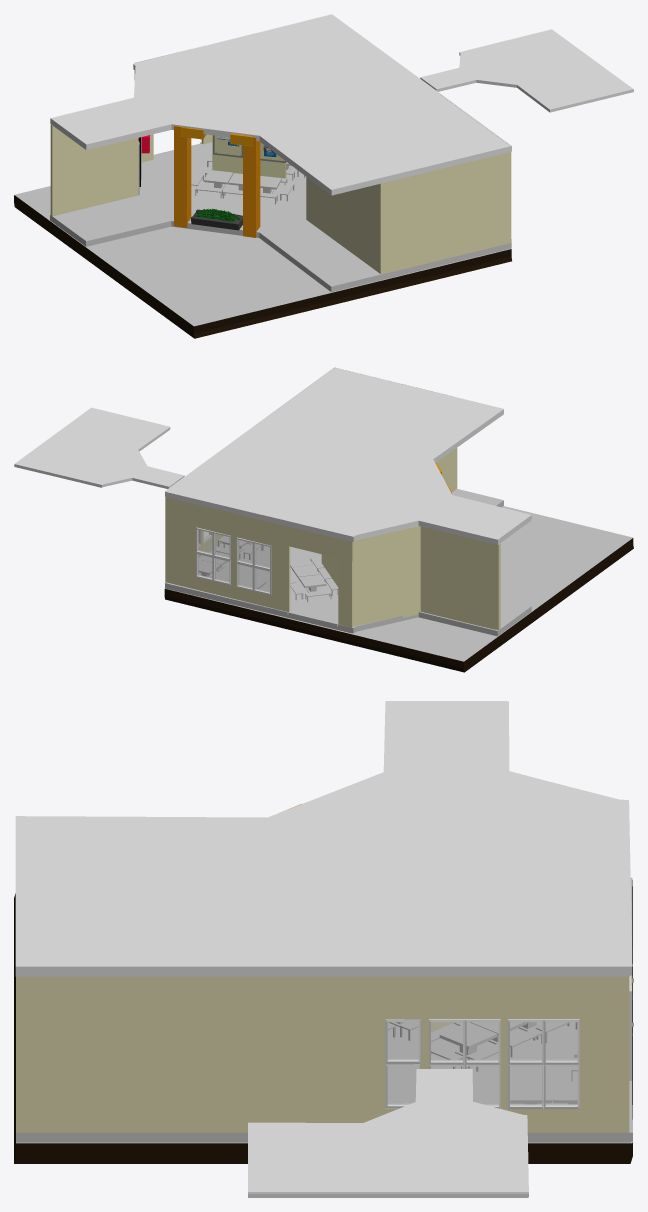
3 renders of one model, top to bottom at view 1: azimuth 30°, elevation 25°; view 2: azimuth 150°, elevation 25°; view 3: azimuth 270°, elevation 25°, orthographic. The views are drawn at different scales.
Visible parts, largest first — view 1: Floor.002, Plane.001, Floor.001, Cube.001, roof, Cube.013, Cube.011, Cube.016, Cube.025, tembok pembatas, Cube.024; view 2: Floor.002, Plane.001, Cube.011, roof, Cube.013, Floor.001, Cube.014, Cube.020, Cube.019, Cube.012; view 3: Floor.002, Cube.001, Cube.011, roof, Floor.001, Plane.001, Cube.017, Cube.018, windows.005, Table.001, Table.004.
Boxes of the visible parts, x1,y1,x2,y2 form: Floor.002: (50, 14, 511, 195); Plane.001: (14, 186, 511, 338); Floor.001: (50, 142, 511, 292); Cube.001: (383, 152, 511, 273); roof: (420, 29, 633, 112); Cube.013: (50, 124, 138, 216); Cube.011: (134, 71, 380, 273); Cube.016: (174, 125, 191, 227); Cube.025: (243, 137, 260, 237); tembok pembatas: (212, 135, 286, 182); Cube.024: (191, 209, 242, 230); Floor.002: (165, 367, 531, 544); Plane.001: (164, 506, 633, 672); Cube.011: (165, 448, 457, 614); roof: (14, 407, 184, 488); Cube.013: (420, 526, 500, 630); Floor.001: (164, 489, 531, 636); Cube.014: (353, 526, 420, 626); Cube.020: (236, 537, 271, 595); Cube.019: (196, 527, 230, 585); Cube.012: (337, 558, 353, 627); Floor.002: (15, 701, 632, 976); Cube.001: (16, 976, 265, 1132); Cube.011: (265, 976, 633, 1132); roof: (248, 1069, 528, 1197); Floor.001: (16, 1022, 632, 1142); Plane.001: (14, 877, 632, 1163); Cube.017: (508, 1019, 579, 1109); Cube.018: (429, 1019, 500, 1108); windows.005: (385, 1019, 421, 1108); Table.001: (439, 1022, 497, 1057); Table.004: (510, 1083, 552, 1104).
Size of what is drawn, in the model's own units: 188 by 40.78 by 116.
